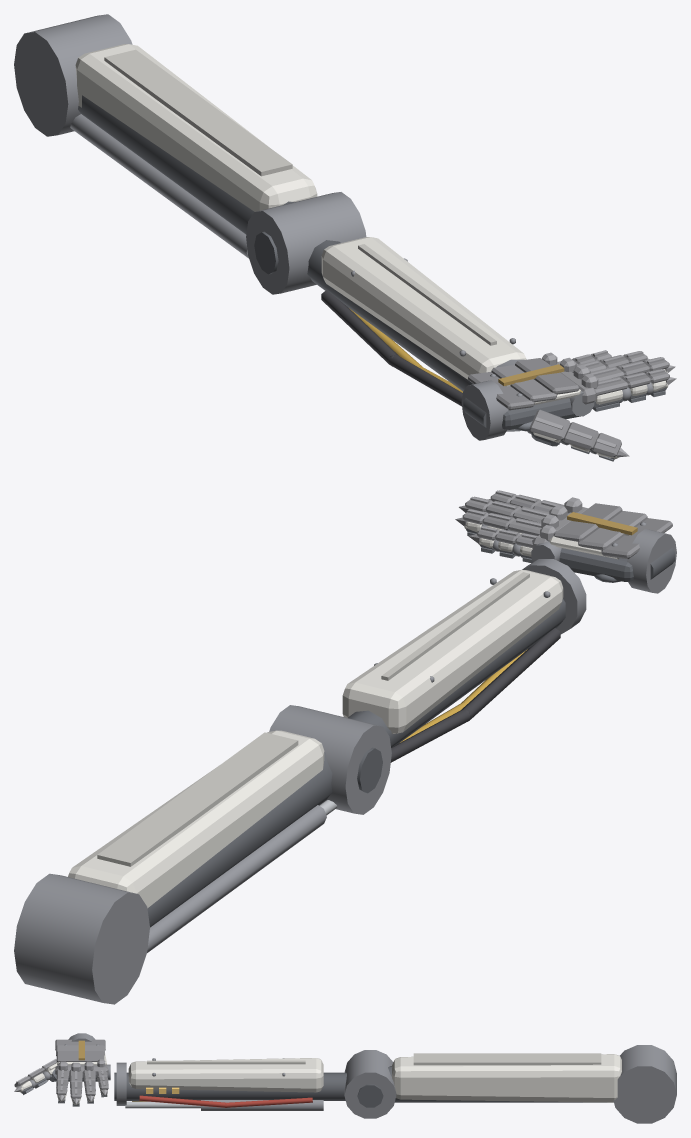
The model's file is unit24_arm.glb.
3 views of the same model, one above another, from view 1: azimuth 30°, elevation 25°; view 2: azimuth 150°, elevation 25°; view 3: azimuth 270°, elevation 25° (orthographic). The views are drawn at different scales.
Visible parts, largest first — view 1: ceramic.001, ceramic, servo, servo.002, ceramic*0.75, frame, servo.001, frame.002, servo.012, ceramic*0.001, cable, frame.003 (+6 smaller); view 2: servo, ceramic.001, ceramic, ceramic*0.75, servo.002, frame, servo.001, frame.002, servo.012, servo.008, cable.001, ceramic*0.001 (+6 smaller); view 3: ceramic, ceramic.001, servo, servo.002, frame.002, ceramic*0.75, servo.007, ceramic*0.001, wire_red.001, frame, wire_red, frame.001 (+7 smaller).
Part boxes in pixels (left/top/right/bottom): ceramic.001: left=321, top=237, right=526, bottom=379; ceramic: left=75, top=44, right=317, bottom=211; servo: left=14, top=14, right=132, bottom=136; servo.002: left=246, top=192, right=366, bottom=294; ceramic*0.75: left=104, top=49, right=292, bottom=176; frame: left=78, top=95, right=294, bottom=234; servo.001: left=70, top=114, right=248, bottom=258; frame.002: left=307, top=240, right=473, bottom=391; servo.012: left=461, top=380, right=508, bottom=440; ceramic*0.001: left=358, top=244, right=496, bottom=345; cable: left=321, top=290, right=399, bottom=364; frame.003: left=502, top=398, right=580, bottom=429; servo: left=14, top=873, right=149, bottom=1004; ceramic.001: left=342, top=569, right=563, bottom=733; ceramic: left=68, top=730, right=324, bottom=908; ceramic*0.75: left=97, top=732, right=298, bottom=866; servo.002: left=269, top=705, right=391, bottom=814; frame: left=147, top=752, right=332, bottom=927; servo.001: left=147, top=805, right=326, bottom=952; frame.002: left=347, top=599, right=565, bottom=747; servo.012: left=627, top=529, right=676, bottom=593; servo.008: left=522, top=559, right=586, bottom=634; cable.001: left=461, top=628, right=560, bottom=719; ceramic*0.001: left=381, top=572, right=529, bottom=680; ceramic: left=392, top=1054, right=621, bottom=1102; ceramic.001: left=128, top=1058, right=323, bottom=1092; servo: left=613, top=1045, right=676, bottom=1123; servo.002: left=344, top=1050, right=396, bottom=1118; frame.002: left=114, top=1072, right=346, bottom=1100; ceramic*0.75: left=413, top=1053, right=601, bottom=1065; servo.007: left=201, top=1100, right=323, bottom=1110; ceramic*0.001: left=147, top=1060, right=305, bottom=1064; wire_red.001: left=139, top=1095, right=226, bottom=1107; frame: left=388, top=1066, right=606, bottom=1102; wire_red: left=226, top=1097, right=312, bottom=1107; frame.001: left=357, top=1084, right=383, bottom=1107.
Bounding box in the file's own units: 0.1891 × 0.0899 × 0.9192.
